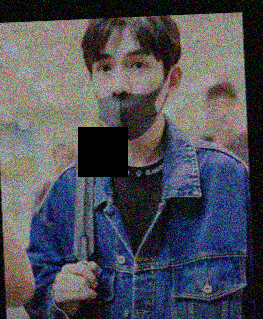mask_weared_incorrect: (90, 46, 168, 141)
without_mask: (208, 99, 237, 131)
